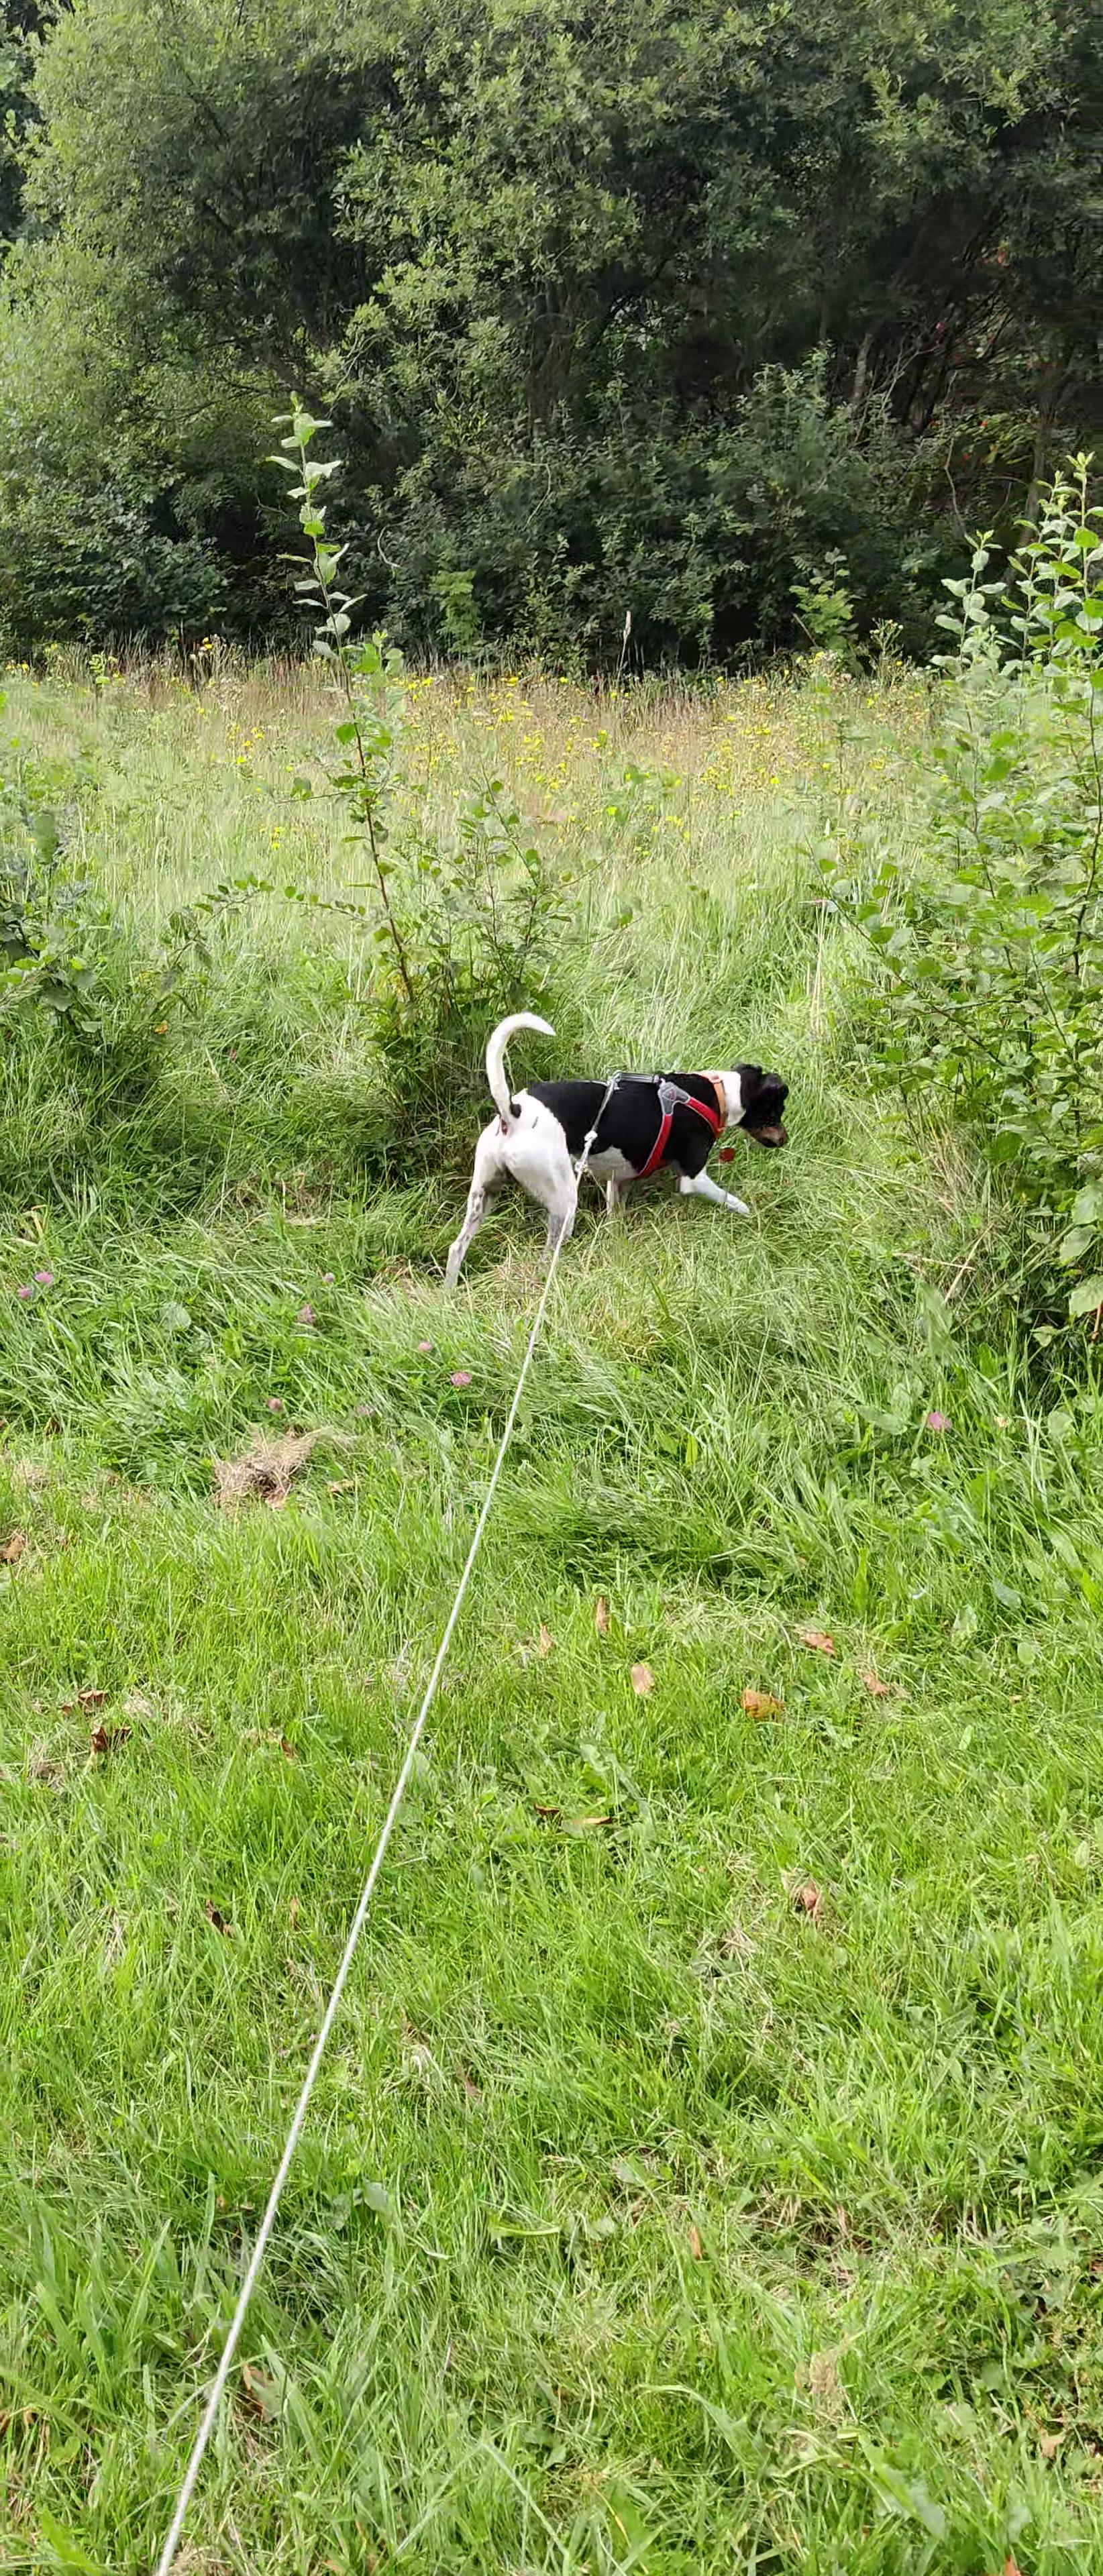Dog: (434, 1005, 789, 1291)
